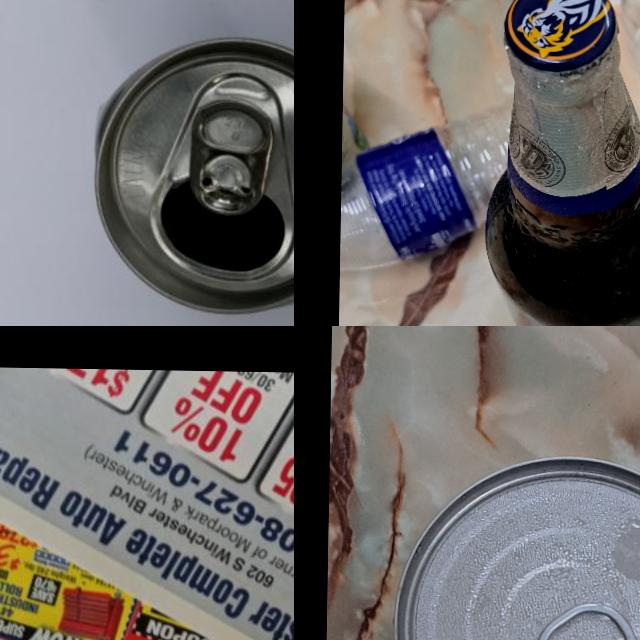aba de lata: (188, 90, 274, 215), (533, 601, 640, 640)
garrafa de vidro: (481, 0, 640, 326)
garrafa plástica: (340, 102, 528, 276)
lata: (86, 34, 294, 313), (391, 452, 640, 640)
papel: (0, 365, 294, 640)
